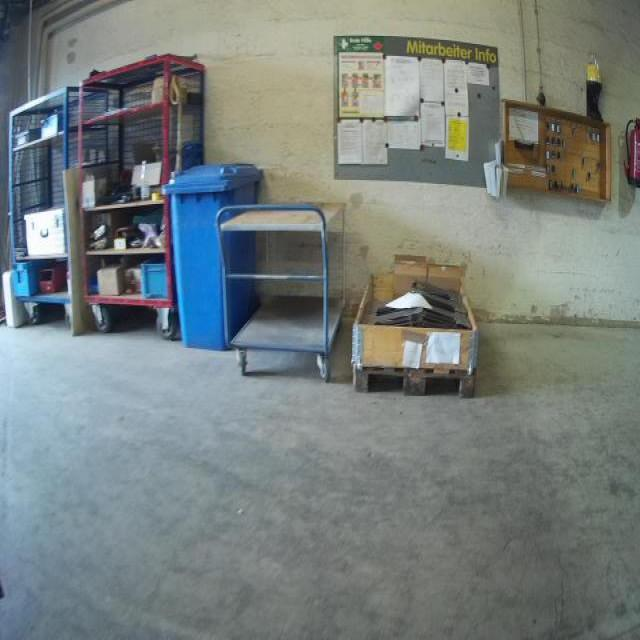pallet: (351, 365, 476, 401)
